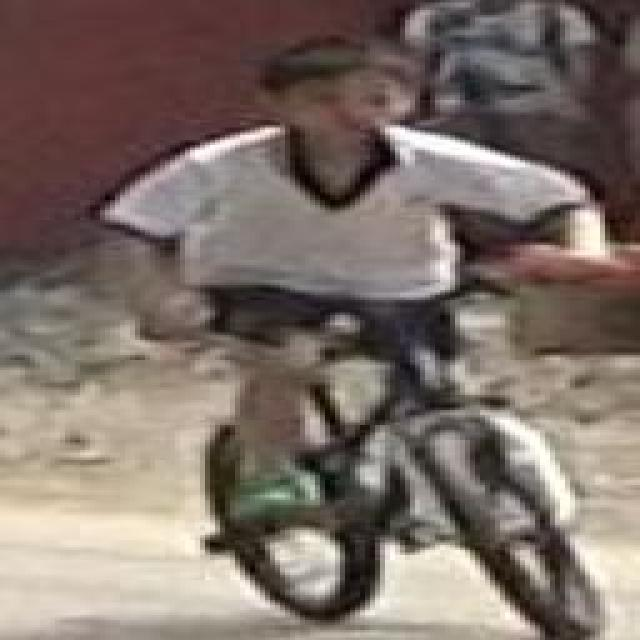child: (87, 44, 637, 519)
